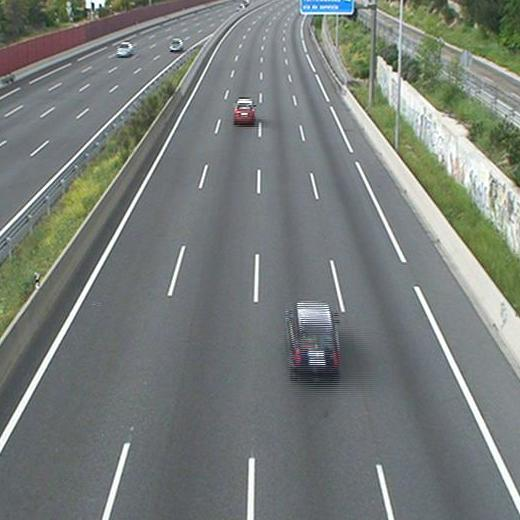car: (287, 303, 338, 369), (234, 100, 255, 123)
